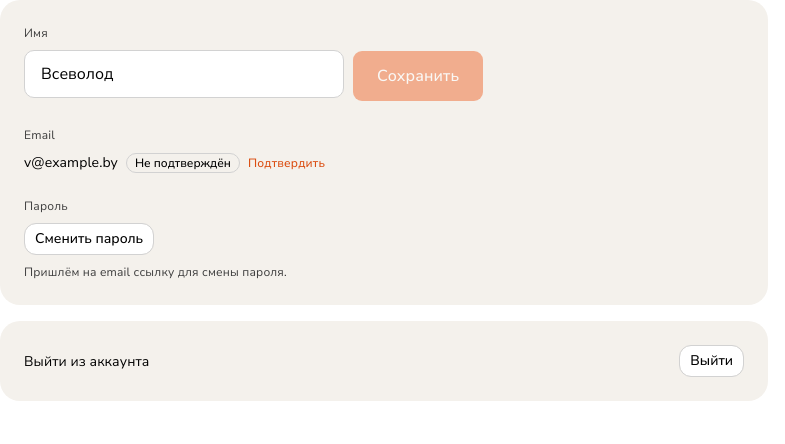
Test: surfaces a russified error on a failed save
Replace the text in the field labelled "Имя" with "Другое имя" at (184, 74), box [24,50,344,98]
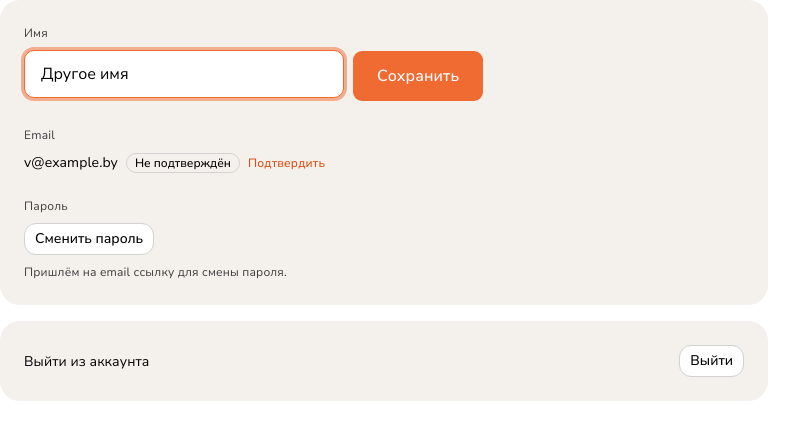
Click the button "Сохранить" at (418, 76), box [352,50,484,102]
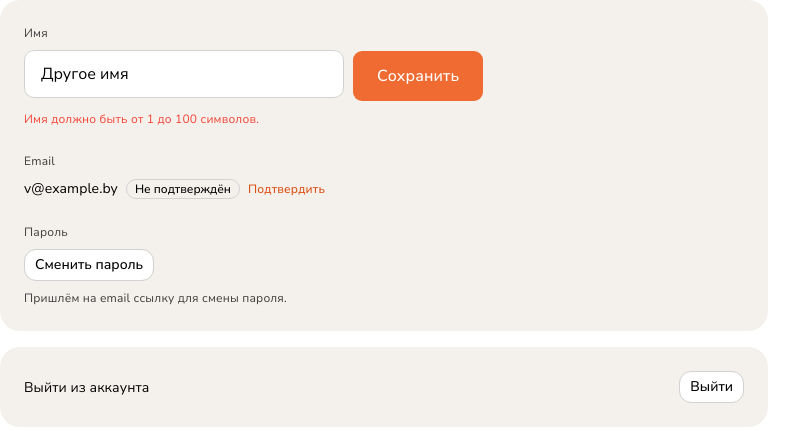
Result: the text "Имя должно быть от 1 до 100 символов." is shown at [24,111,259,127]
